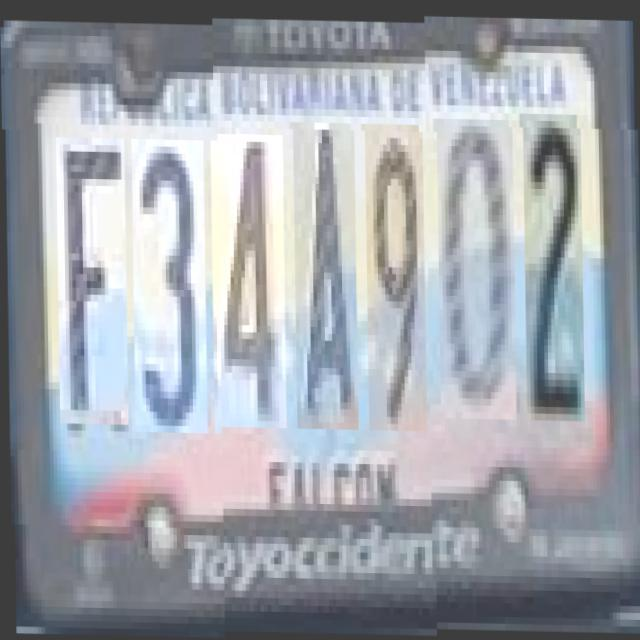2: (522, 111, 584, 419)
3: (131, 125, 206, 419)
4: (210, 127, 285, 420)
9: (364, 115, 426, 423)
A: (292, 114, 358, 422)
F: (55, 124, 127, 410)
O: (436, 116, 516, 418)
